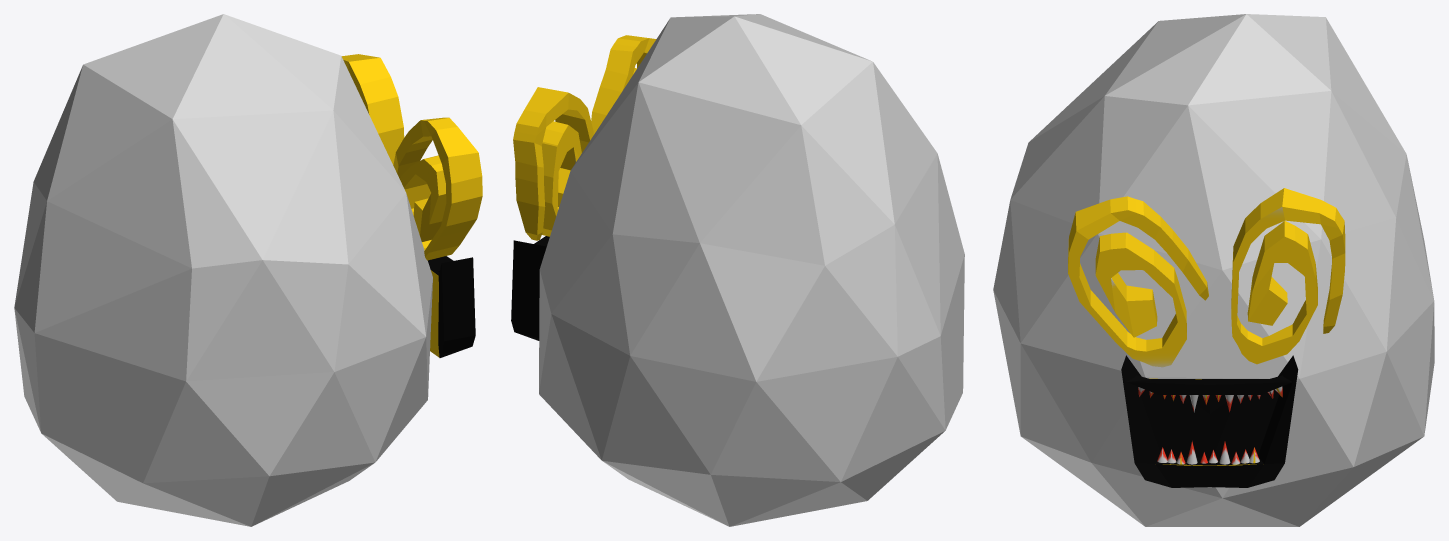
Rendered from small enemy.glb.
The picture shows the model from 3 angles, left to right: view 1: azimuth 30°, elevation 25°; view 2: azimuth 150°, elevation 25°; view 3: azimuth 270°, elevation 25°; orthographic projection. The views are drawn at different scales.
Visible parts, largest first — view 1: Small creature; view 2: Small creature; view 3: Small creature.
Part boxes in pixels (x1=…): Small creature: x1=14, y1=14, x2=482, y2=526; Small creature: x1=511, y1=14, x2=964, y2=526; Small creature: x1=993, y1=14, x2=1434, y2=526.
Size of the model in its own units: 1.92 by 2.24 by 1.77.
1 material, 1 textured.
